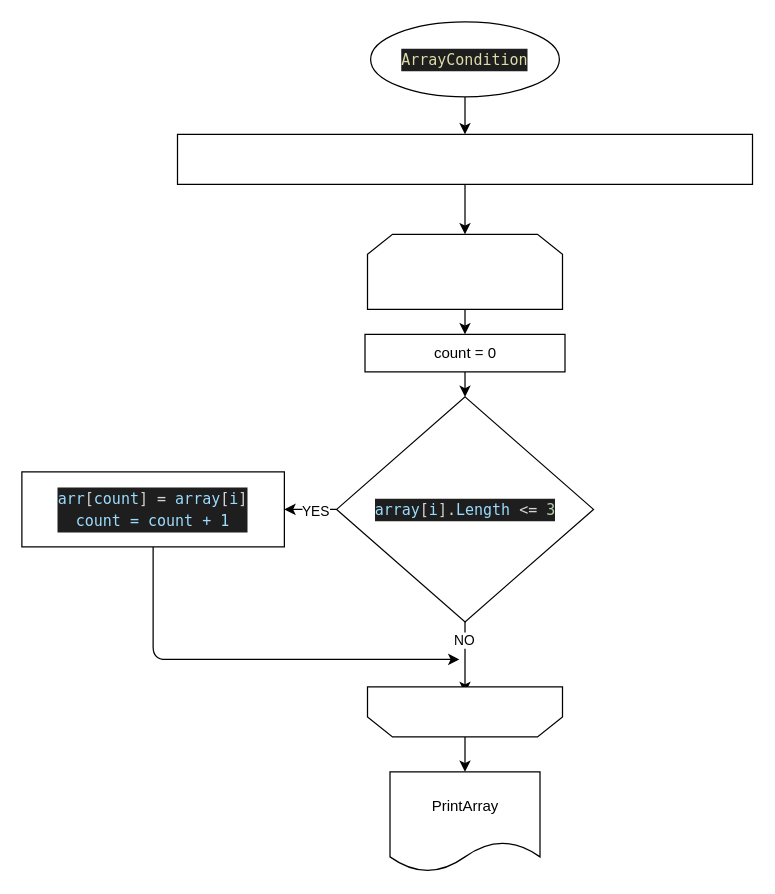
Image size: 775x894. Some labels were removed from this diagram. Each missing label, with the centre of its shape:
array = [ "cat" , "12346" , "comp" , "да" , ";-)" , "123" , "4567" ]: the point at 464,158
i = 0; i < array.Length: the point at 464,271
i = i +1: the point at 464,711
